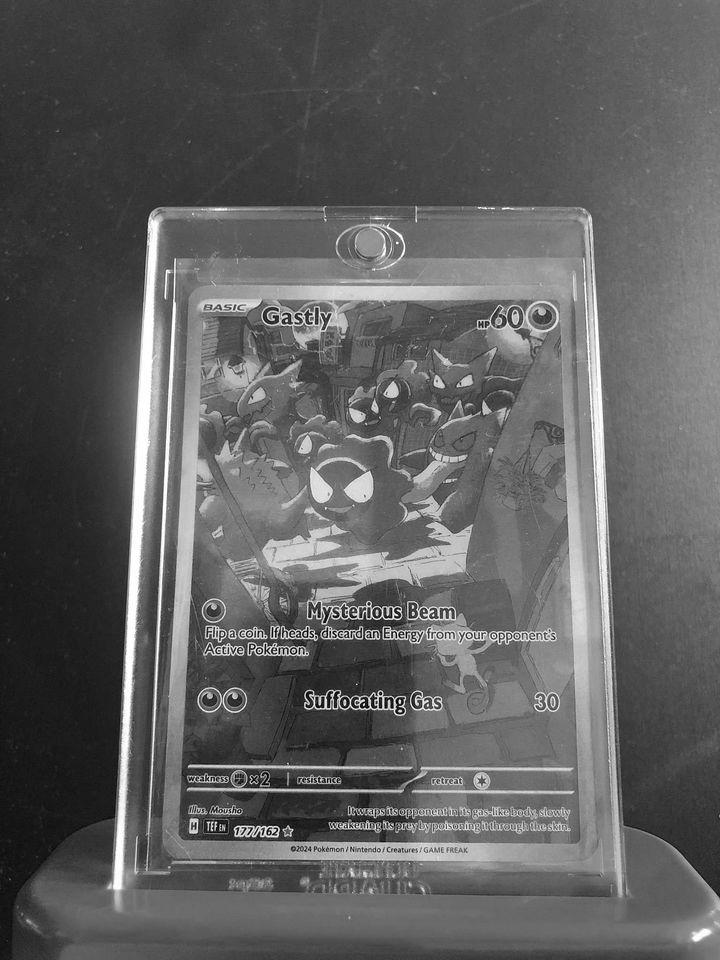card: (161, 284, 598, 863)
